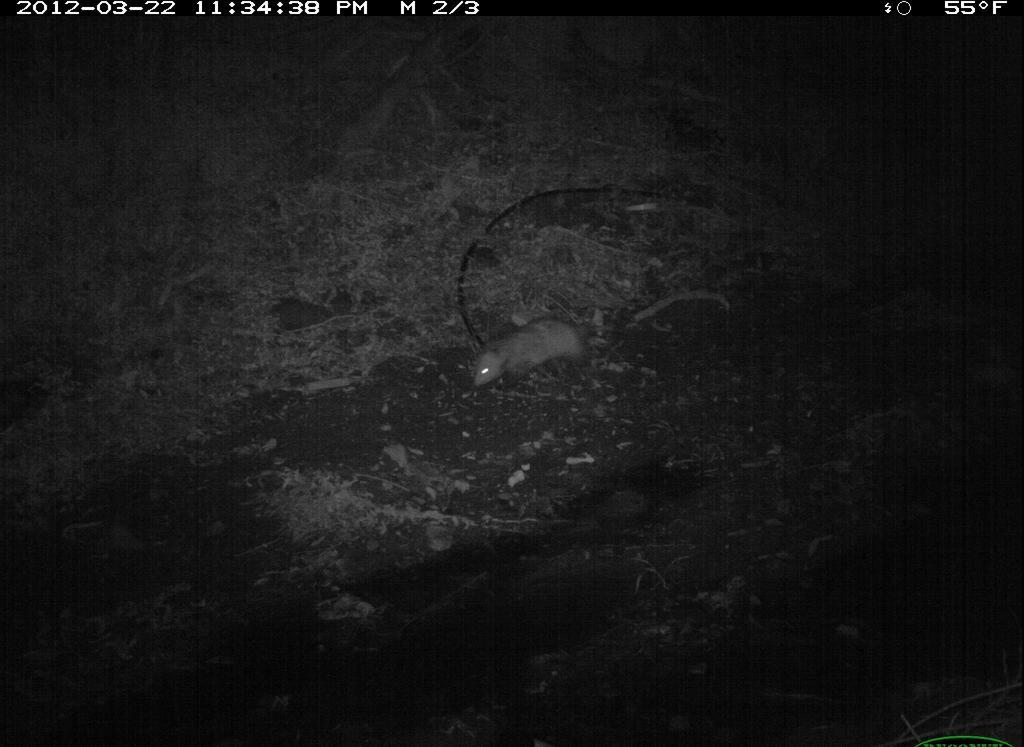opossum: (451, 304, 637, 401)
